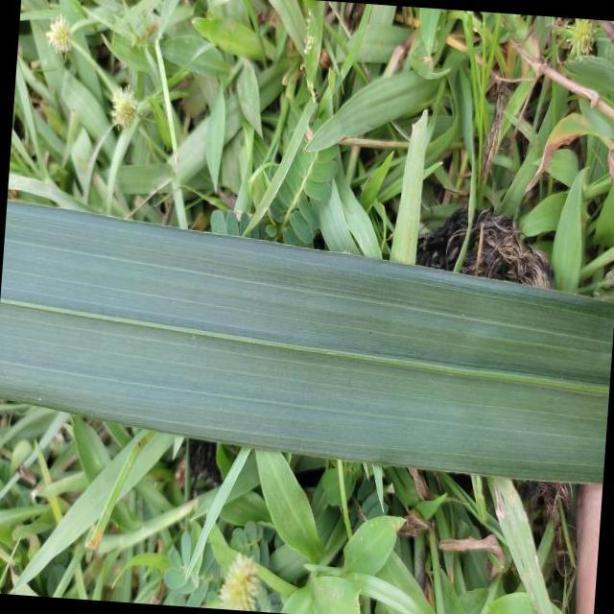Healthy: (0, 203, 604, 484)
